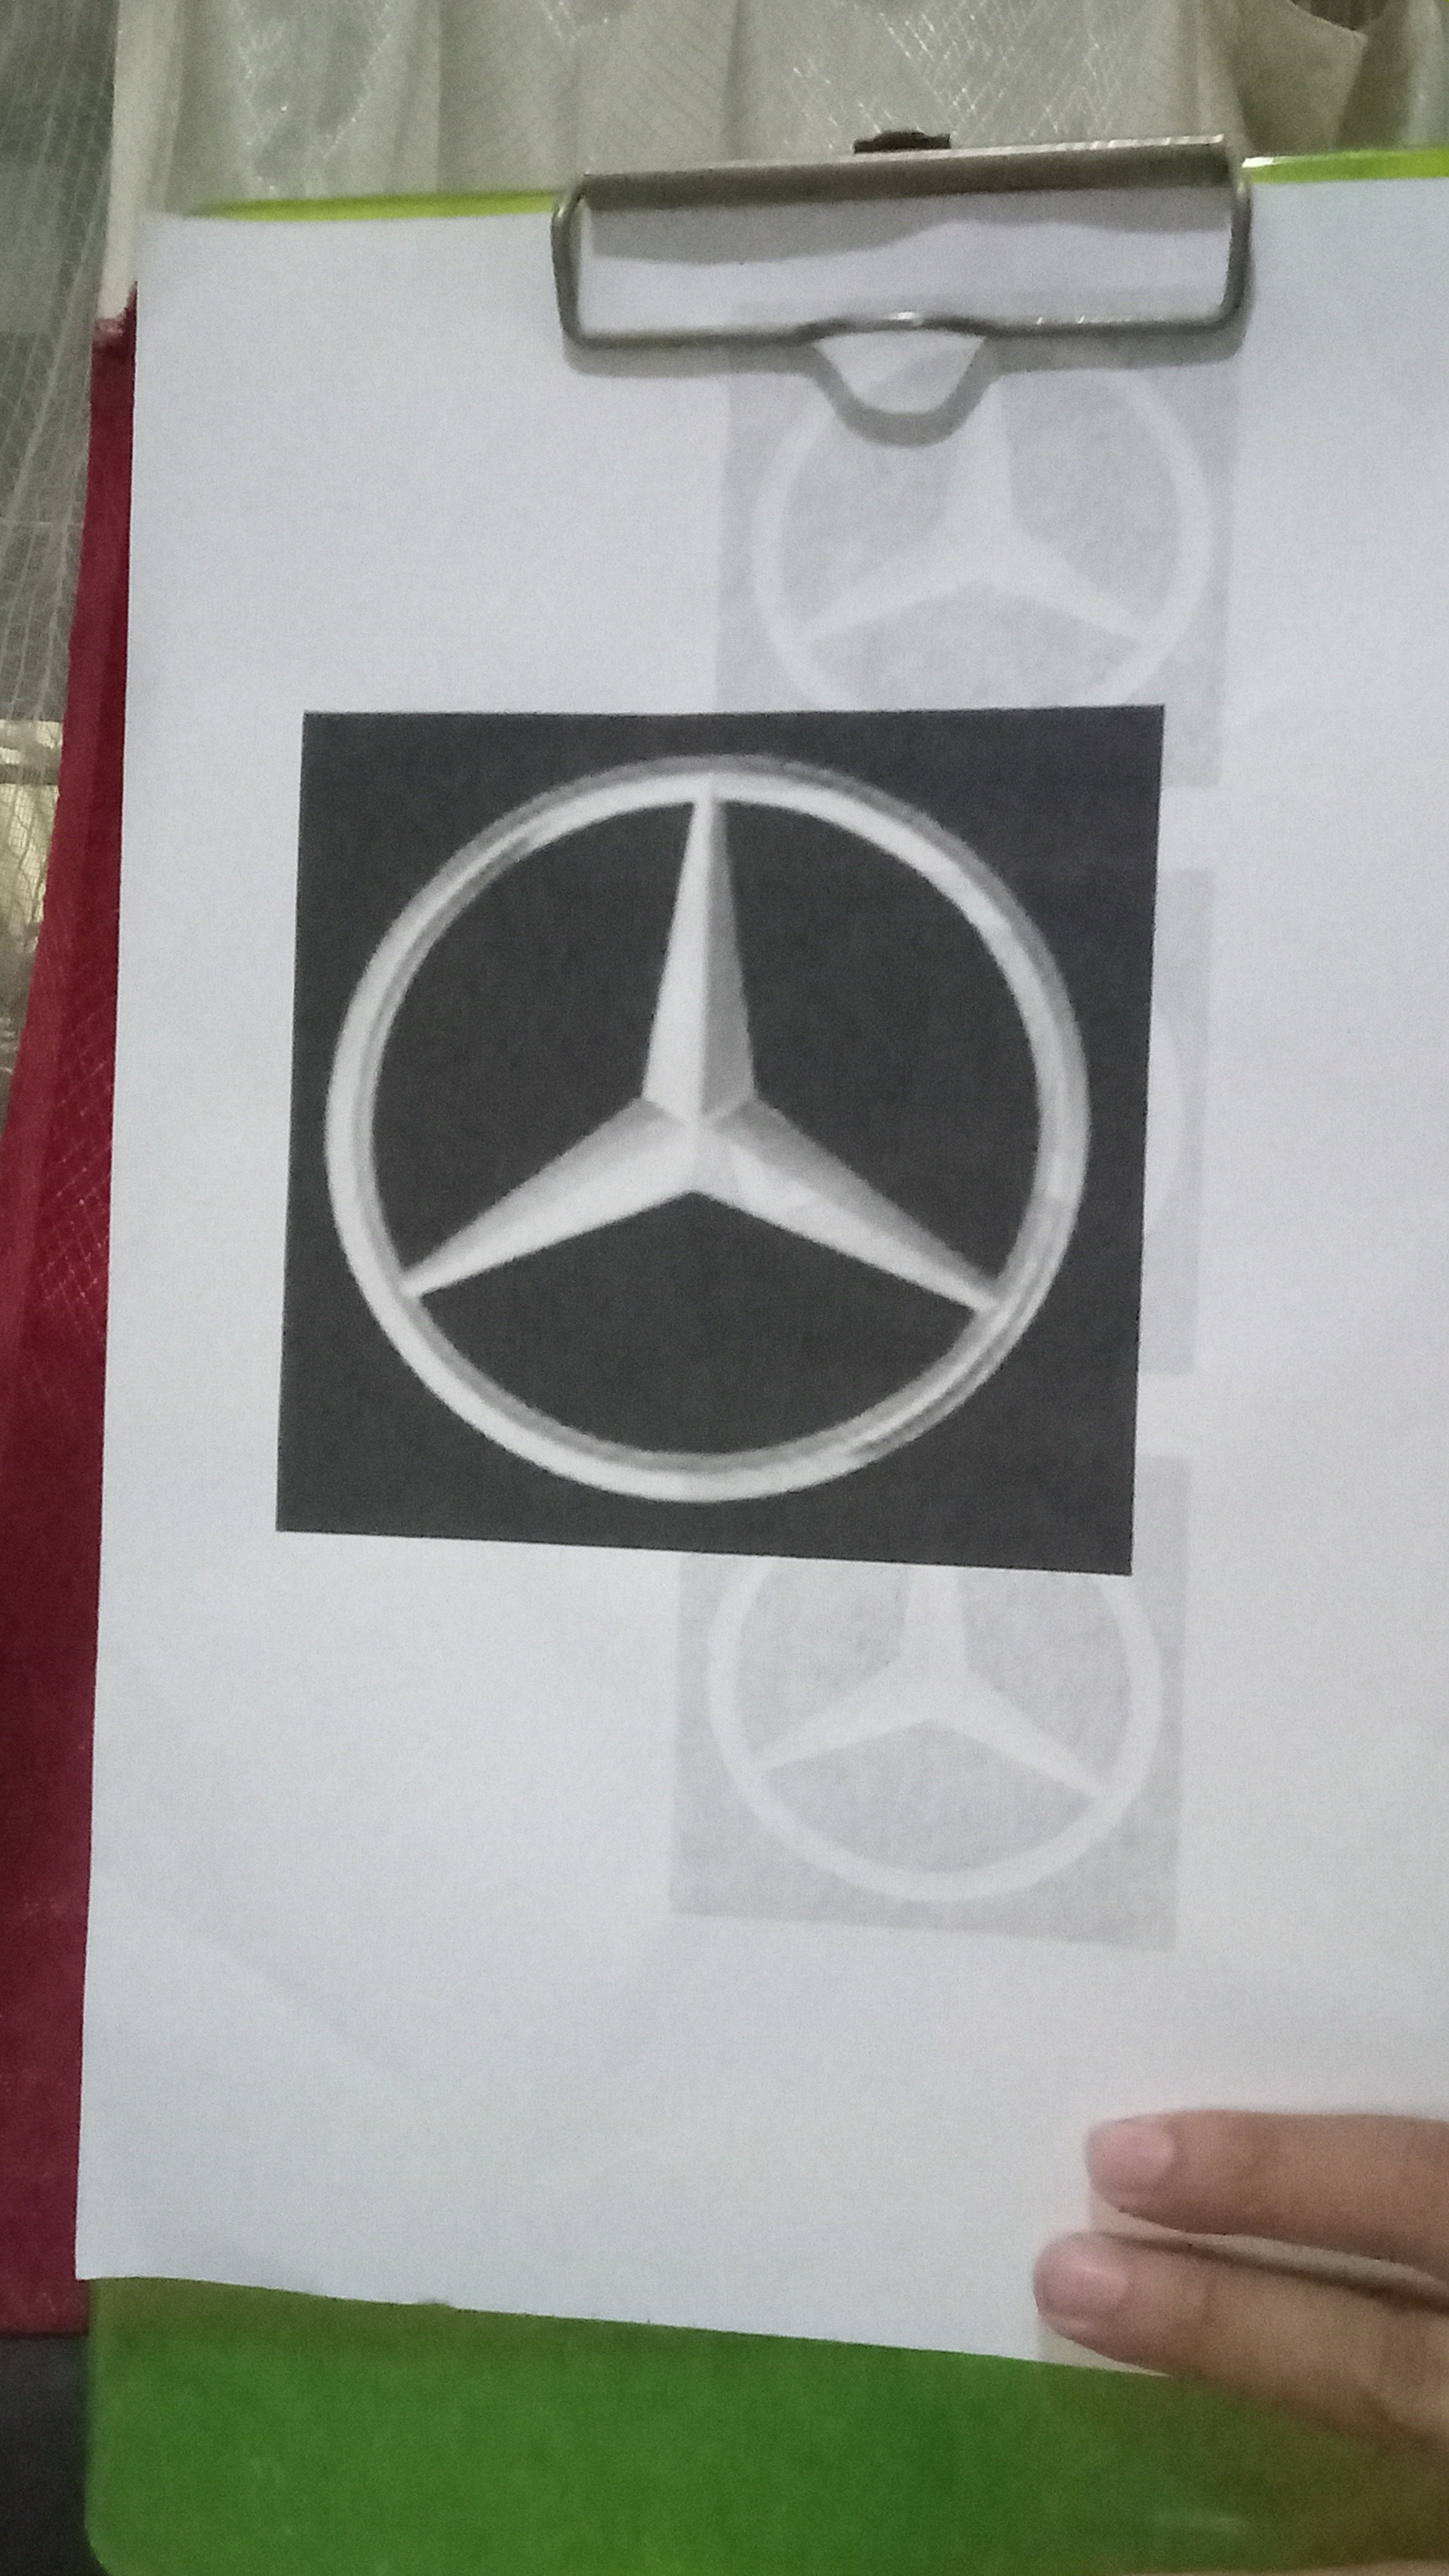Mercedes: (313, 727, 1090, 1539)
